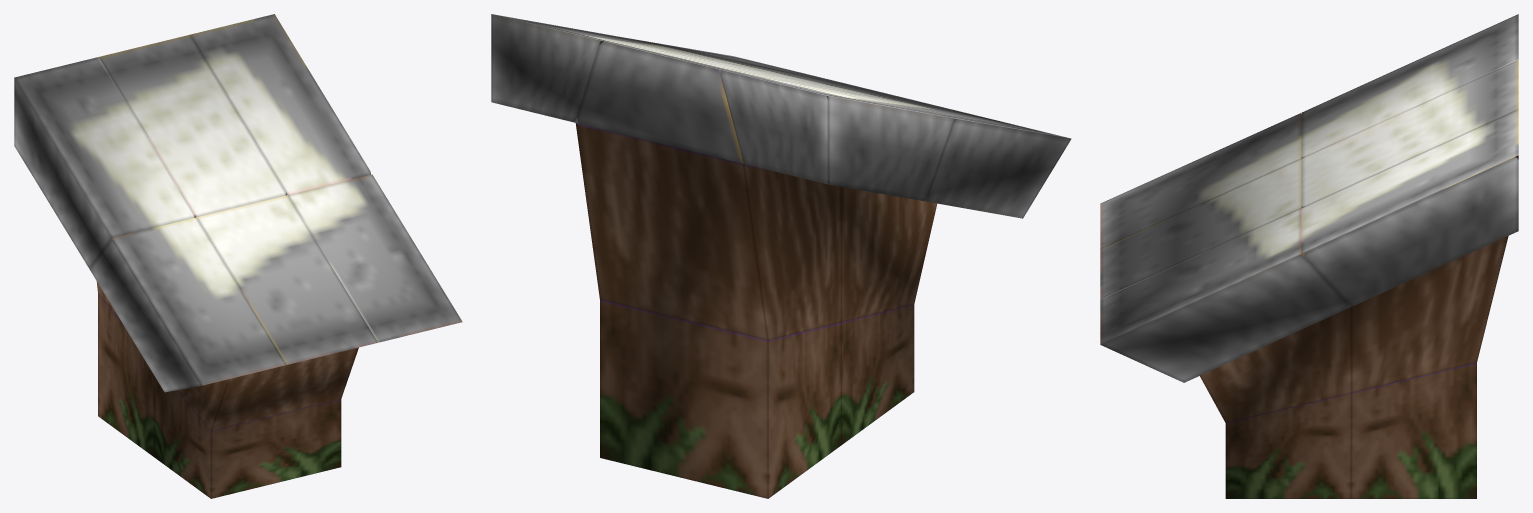
3 views of the same model, side by side, from view 1: azimuth 30°, elevation 25°; view 2: azimuth 150°, elevation 25°; view 3: azimuth 270°, elevation 25° (orthographic). The views are drawn at different scales.
Visible parts, largest first — view 1: T1L8M008_20; view 2: T1L8M008_20; view 3: T1L8M008_20.
Boxes of the visible parts, x1,y1,x2,y2 form: T1L8M008_20: (14,14,462,498); T1L8M008_20: (491,14,1071,498); T1L8M008_20: (1100,14,1518,498).
Size of the model in its own units: 0.7998 by 1 by 1.
Materials: 1 (1 with a texture image).
